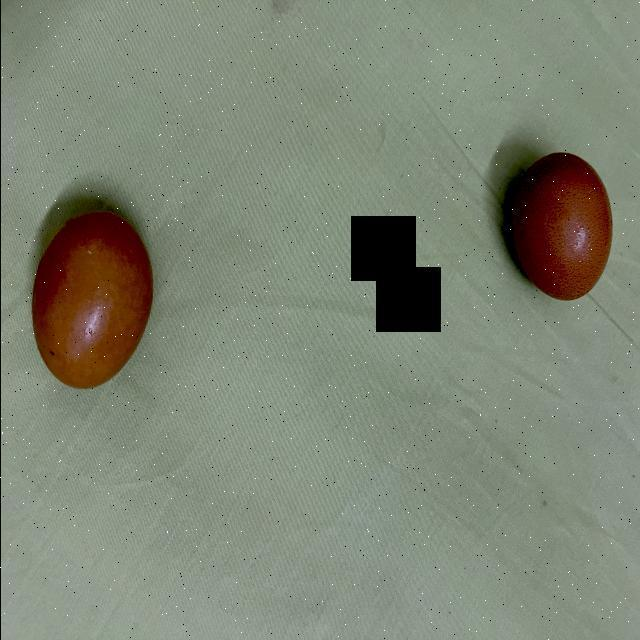egg: (29, 200, 160, 400), (508, 150, 616, 308)
